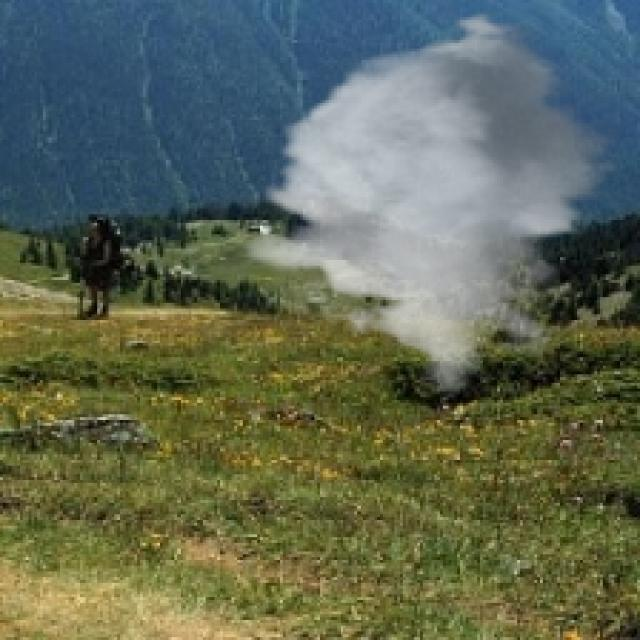Smoke: (240, 8, 626, 394)
